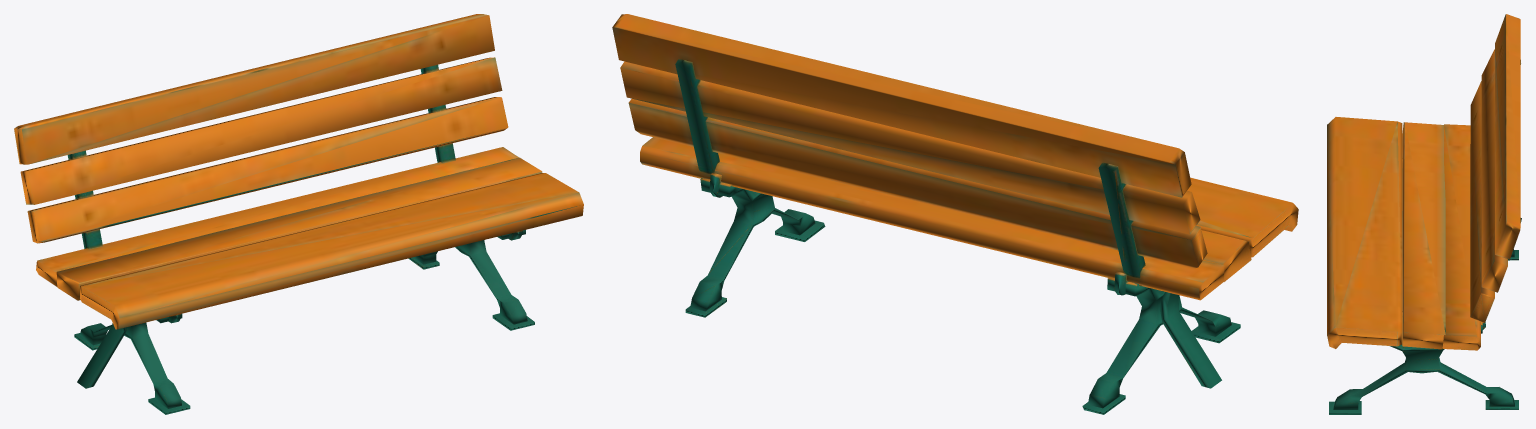
File: bench.glb
3 views of the same model, side by side, from view 1: azimuth 30°, elevation 25°; view 2: azimuth 150°, elevation 25°; view 3: azimuth 270°, elevation 25° (orthographic). The views are drawn at different scales.
Size of the model in its own units: 1.8 by 0.8499 by 0.7002.
Materials: 1 (1 with a texture image).
